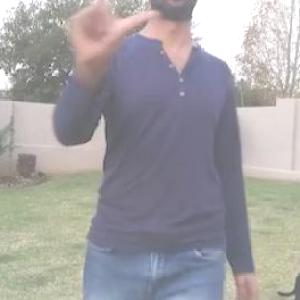land_hand: (54, 0, 164, 73)
